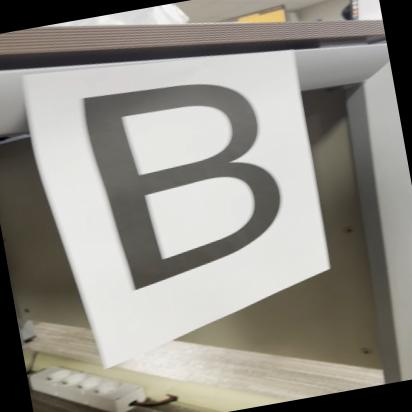seat: (62, 46, 348, 298)
